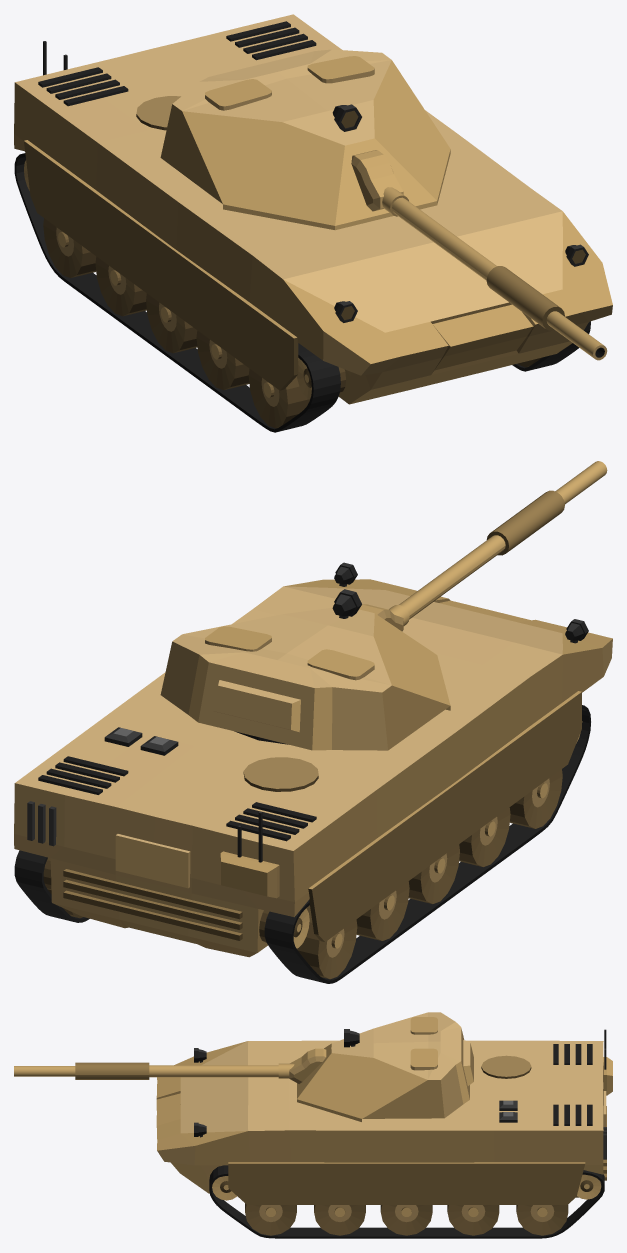
Rendered from TanKe00.fbx.
The picture shows the model from 3 angles, top to bottom: view 1: azimuth 30°, elevation 25°; view 2: azimuth 150°, elevation 25°; view 3: azimuth 270°, elevation 25°; orthographic projection. The views are drawn at different scales.
Visible parts, largest first — view 1: TanKe00; view 2: TanKe00; view 3: TanKe00.
Boxes of the visible parts, x1,y1,x2,y2 form: TanKe00: (14,14,612,432); TanKe00: (14,461,612,983); TanKe00: (14,1012,612,1238).
Bounding box in the file's own units: 513 × 419 × 1397.
